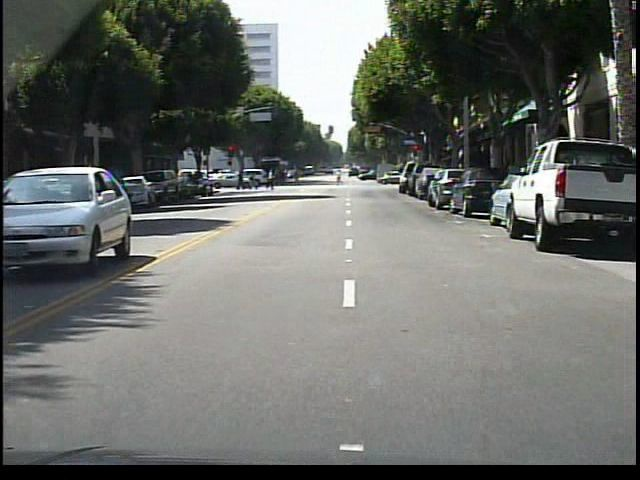person: (262, 165, 283, 195)
